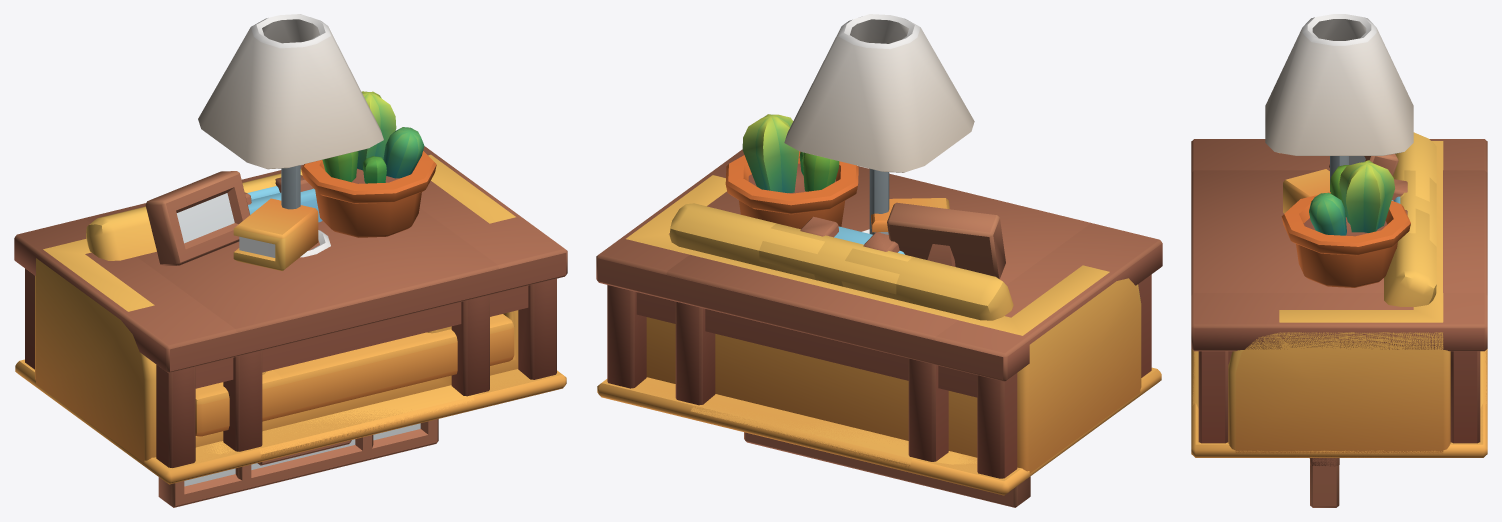
Rendered from furniture.glb.
The picture shows the model from 3 angles, left to right: view 1: azimuth 30°, elevation 25°; view 2: azimuth 150°, elevation 25°; view 3: azimuth 270°, elevation 25°; orthographic projection. The views are drawn at different scales.
Visible parts, largest first — view 1: table_medium_long, couch_pillows, table_medium, cabinet_medium_decorated, lamp_standing, rug_rectangle_A, pictureframe_large_B, rug_oval_A, armchair_pillows, pictureframe_large_A, rug_rectangle_stripes_A, chair_B; view 2: couch_pillows, table_medium_long, table_medium, lamp_standing, cabinet_medium_decorated, rug_rectangle_A, armchair_pillows, rug_oval_A, rug_rectangle_stripes_A, pictureframe_large_B, pictureframe_large_A, chair_B (+1 smaller); view 3: couch_pillows, table_medium_long, table_medium, lamp_standing, cabinet_medium_decorated, rug_rectangle_A, pictureframe_large_B, armchair_pillows, rug_oval_A.
Part boxes in pixels (x1,y1,x2,y2): table_medium_long: [14, 146, 567, 467]; couch_pillows: [35, 154, 518, 462]; table_medium: [84, 164, 499, 451]; cabinet_medium_decorated: [145, 91, 436, 271]; lamp_standing: [198, 14, 383, 209]; rug_rectangle_A: [15, 359, 566, 484]; pictureframe_large_B: [158, 419, 438, 507]; rug_oval_A: [83, 385, 483, 462]; armchair_pillows: [242, 170, 451, 431]; pictureframe_large_A: [235, 435, 373, 489]; rug_rectangle_stripes_A: [20, 360, 561, 469]; chair_B: [246, 177, 322, 222]; couch_pillows: [626, 175, 1141, 473]; table_medium_long: [596, 149, 1162, 478]; table_medium: [666, 166, 1090, 461]; lamp_standing: [784, 14, 974, 234]; cabinet_medium_decorated: [725, 114, 1005, 279]; rug_rectangle_A: [597, 367, 1161, 495]; armchair_pillows: [759, 223, 912, 294]; rug_oval_A: [691, 406, 1108, 469]; rug_rectangle_stripes_A: [602, 368, 1156, 480]; pictureframe_large_B: [744, 432, 1030, 507]; pictureframe_large_A: [812, 449, 945, 488]; chair_B: [800, 216, 904, 254]; couch_pillows: [1228, 132, 1450, 453]; table_medium_long: [1191, 139, 1487, 443]; table_medium: [1191, 170, 1487, 295]; lamp_standing: [1265, 14, 1413, 191]; cabinet_medium_decorated: [1281, 154, 1410, 287]; rug_rectangle_A: [1191, 349, 1487, 457]; pictureframe_large_B: [1310, 458, 1339, 507]; armchair_pillows: [1400, 170, 1436, 246]; rug_oval_A: [1192, 350, 1486, 457].
Size of the model in its own units: 3 by 3.12 by 2.
1 material, 1 textured.
